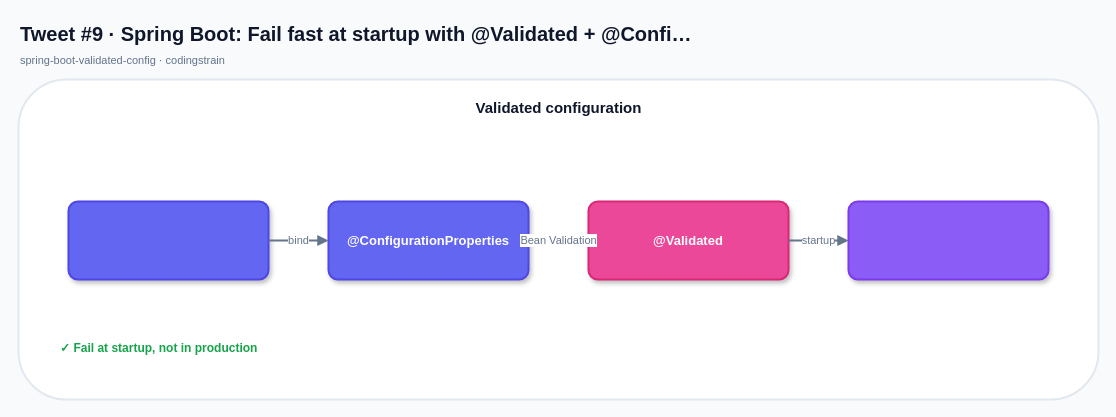
Some shapes in this 1116 by 417 pixel diagram are drawn without their labels. Each missing label, with the centre of its shape:
"application.yml" belongs at (x=169, y=241).
"Spring Context" belongs at (x=949, y=241).
